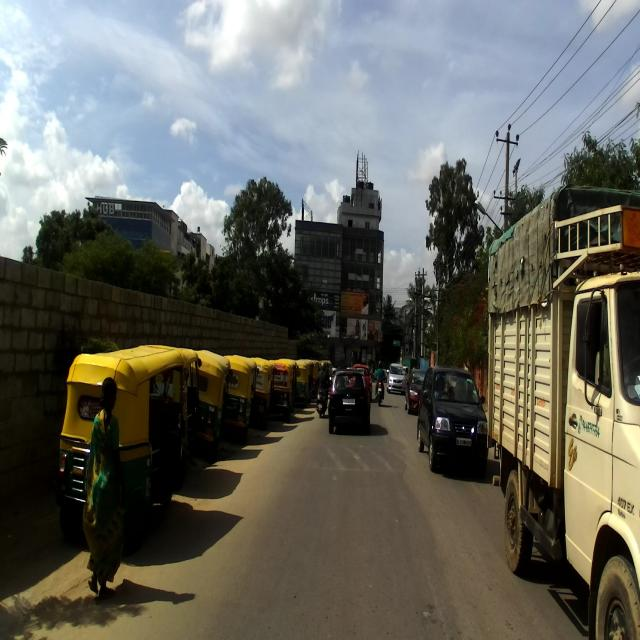Car_Hyundai: (417, 367, 488, 473)
autorickshaw: (58, 345, 188, 546), (151, 341, 202, 475)
truck: (486, 186, 640, 639)
